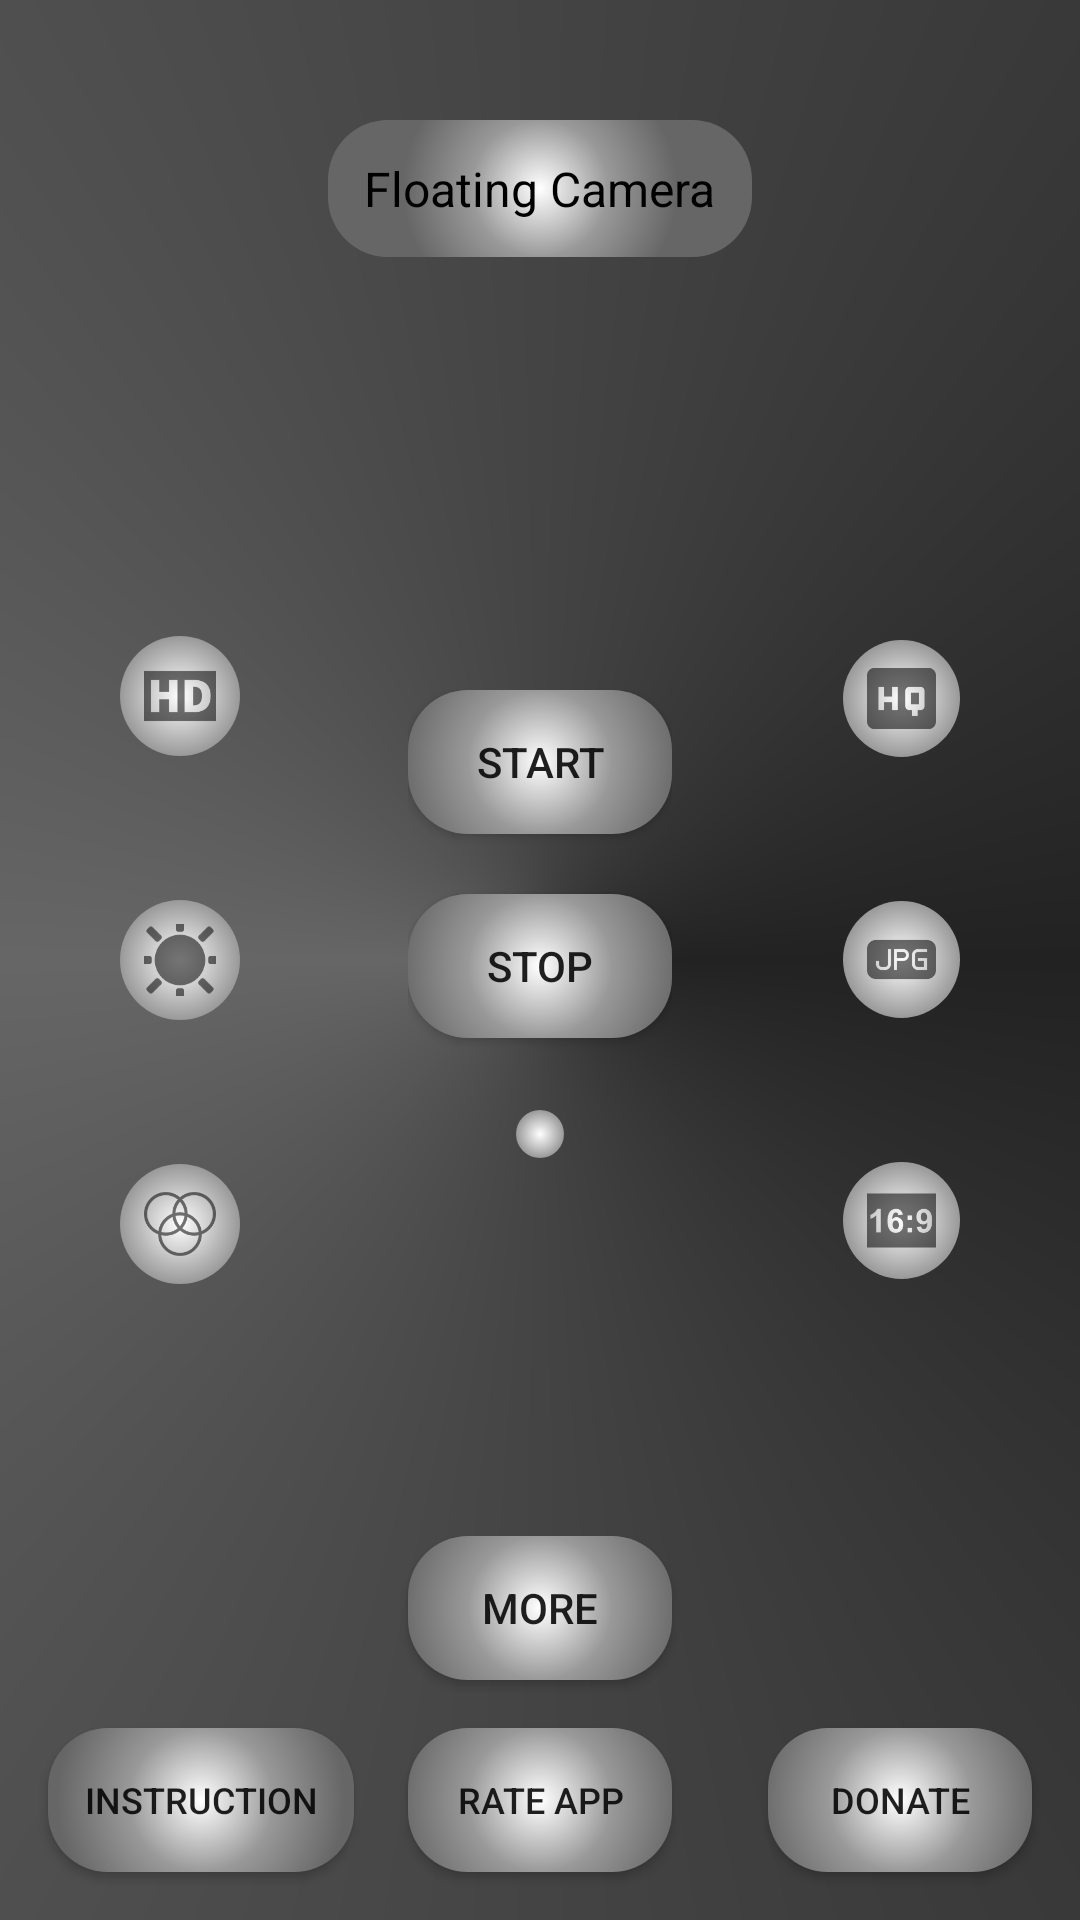

Icons on this 1080x1920 Android screen, each with the point to tap as point (x, y):
daylight balance: point (180, 960)
filters: point (180, 1224)
picture quality hq: point (901, 698)
picture size: point (901, 1220)
video size: point (180, 696)
